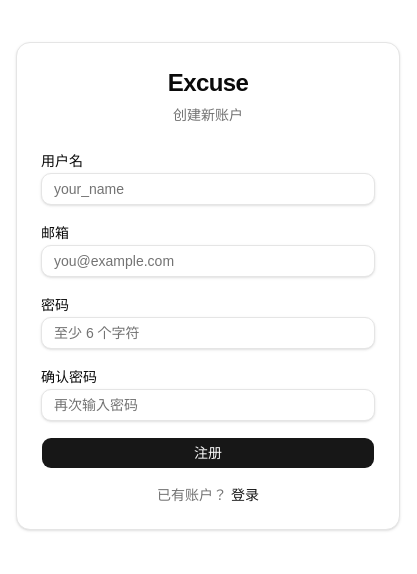
Test: register 页面 › 密码太短时显示错误
Type "testuser" into the field labelled "用户名".
click(208, 189); type("testuser")  # box [41,173,375,205]
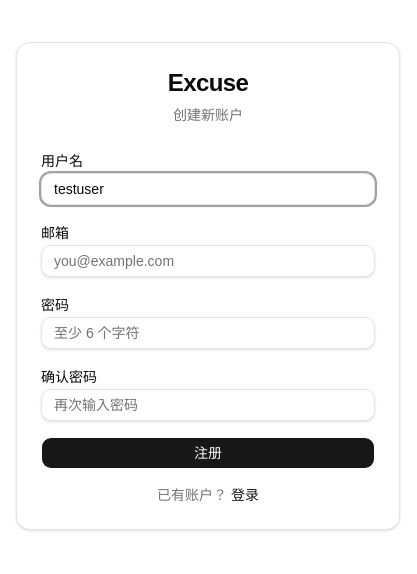
Type "test@example.com" into the field labelled "邮箱".
click(208, 261); type("test@example.com")  # box [41,245,375,277]
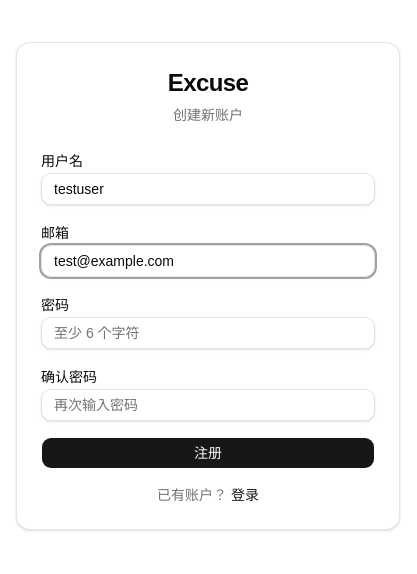
Type "12345" into the password field labelled "密码".
click(208, 333); type("12345")  # box [41,317,375,349]
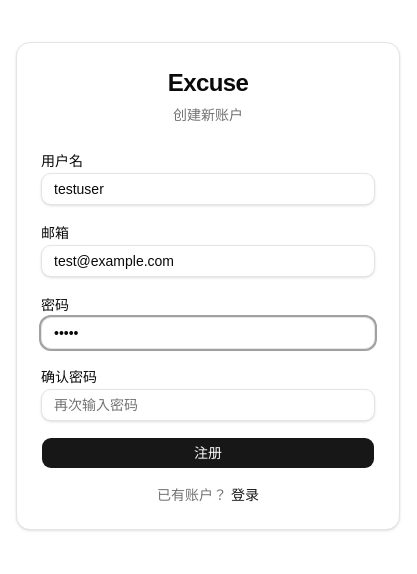
Type "12345" into the password field labelled "确认密码".
click(208, 405); type("12345")  # box [41,389,375,421]
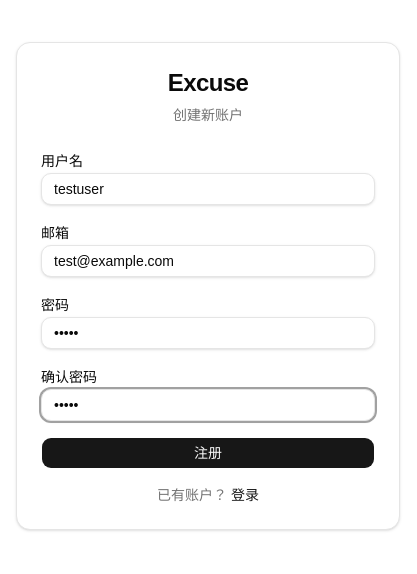
Click the button "注册".
click(208, 453)  # box [41,437,375,469]
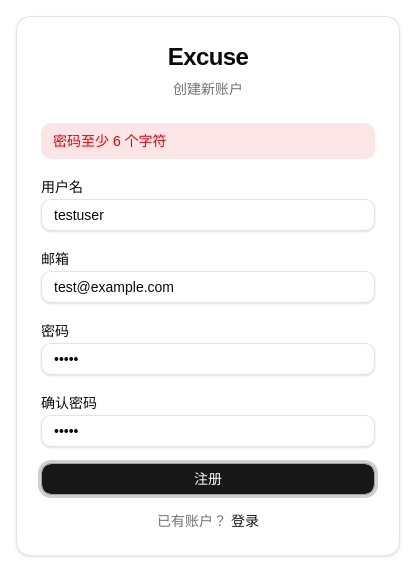
expect the text "密码至少 6 个字符" is shown: met, box [41,123,375,159]
